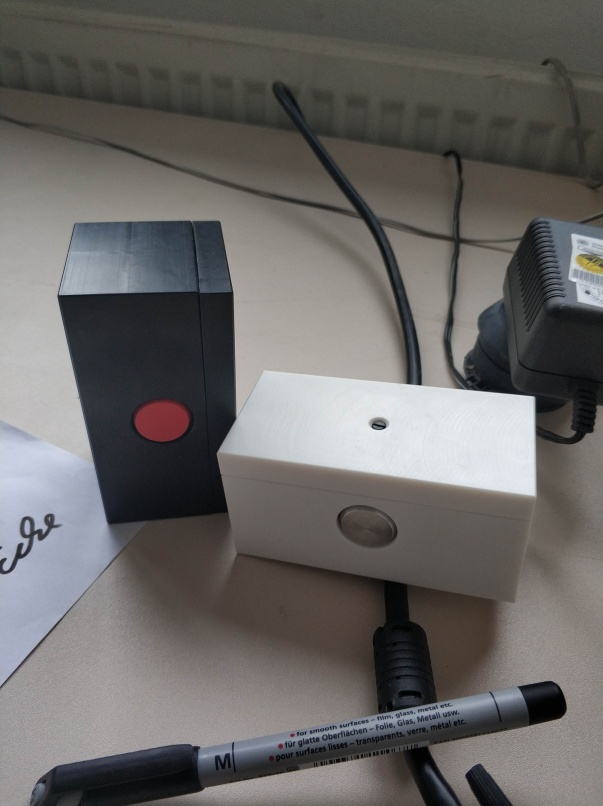black+black+red: (55, 218, 238, 530)
white+white+silver: (211, 364, 542, 607)
